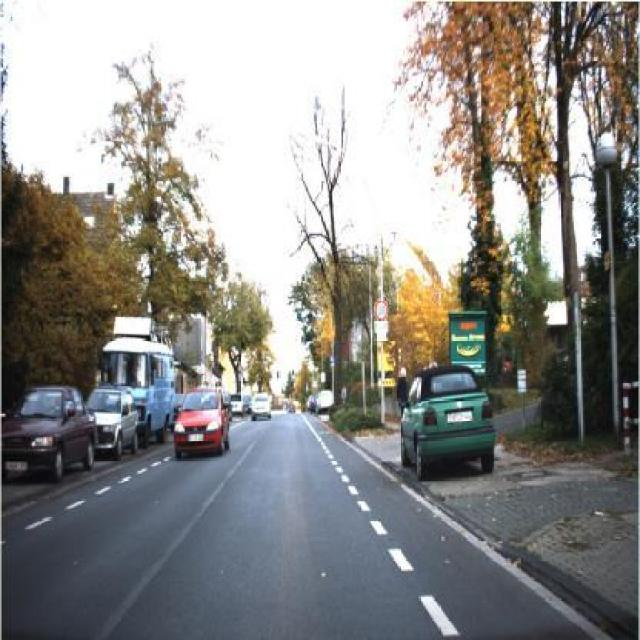traffic_sign: (373, 298, 390, 324)
